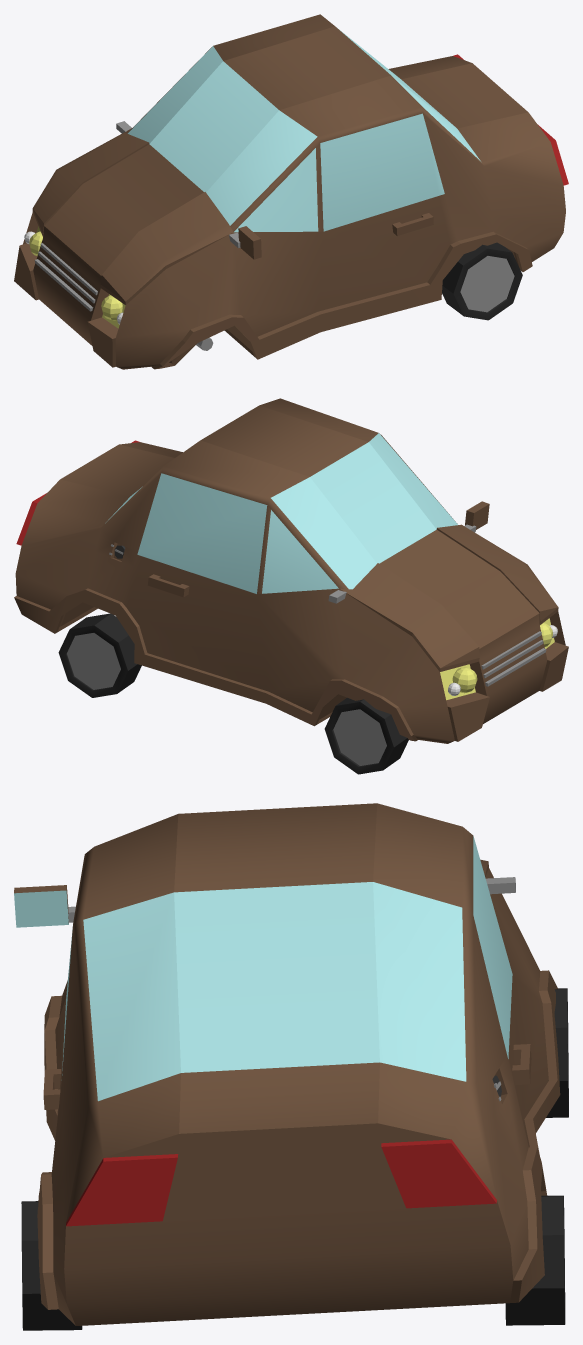
File: Car.fbx
The picture shows the model from 3 angles, top to bottom: view 1: azimuth 30°, elevation 25°; view 2: azimuth 150°, elevation 25°; view 3: azimuth 270°, elevation 25°; orthographic projection. The views are drawn at different scales.
Parts seen in each view (by area): view 1: polySurface11; view 2: polySurface11; view 3: polySurface11.
Part boxes in pixels (left/top/right/bottom): polySurface11: left=14, top=14, right=568, bottom=369; polySurface11: left=14, top=398, right=568, bottom=774; polySurface11: left=14, top=803, right=568, bottom=1330.
Bounding box in the file's own units: 353 × 182 × 219.
